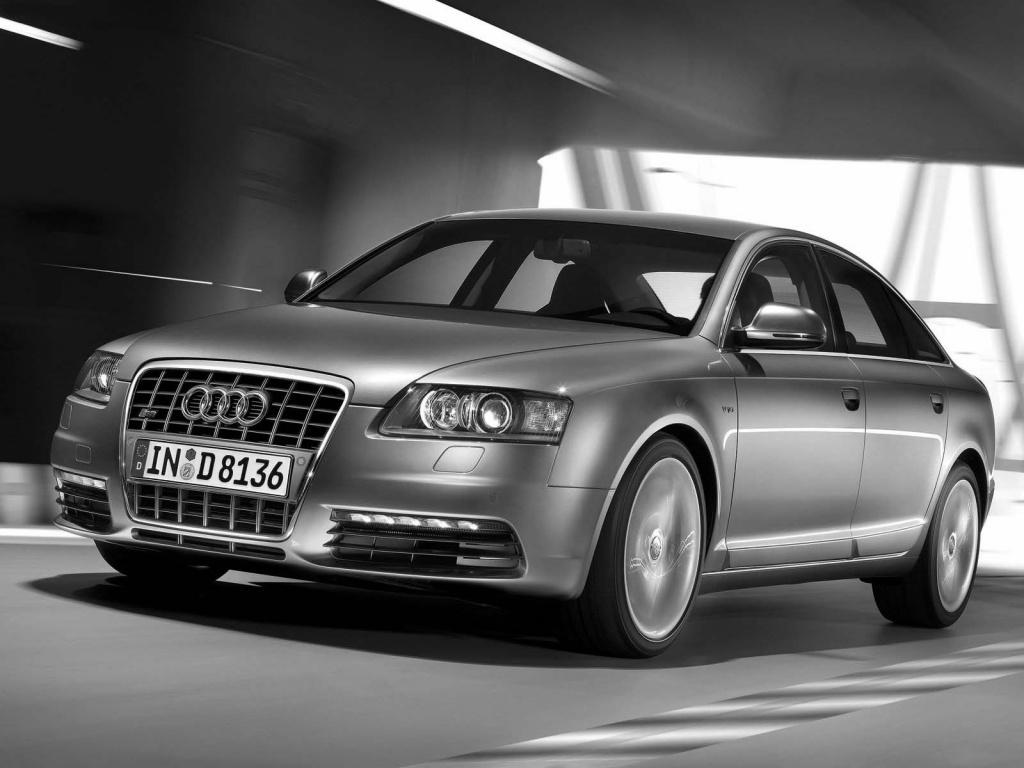car: (47, 208, 997, 667)
